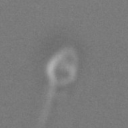normal: (22, 84, 65, 128)
